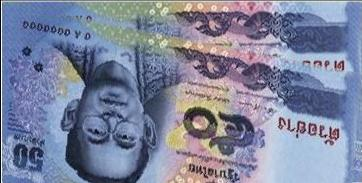50BahtTai: (3, 2, 362, 183)
